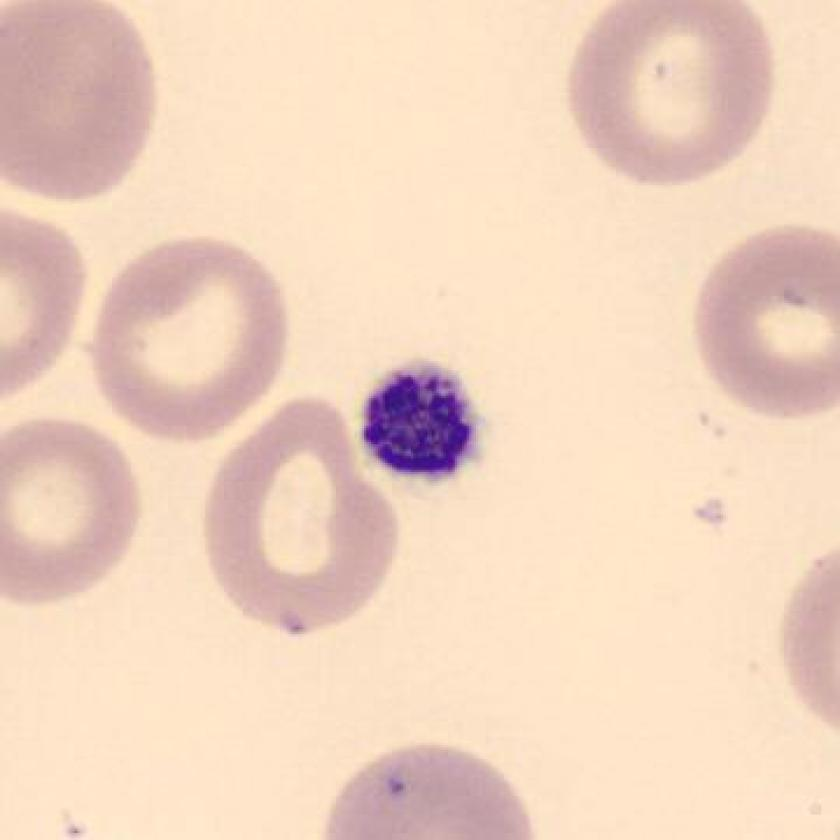platelets: (344, 346, 498, 501)
